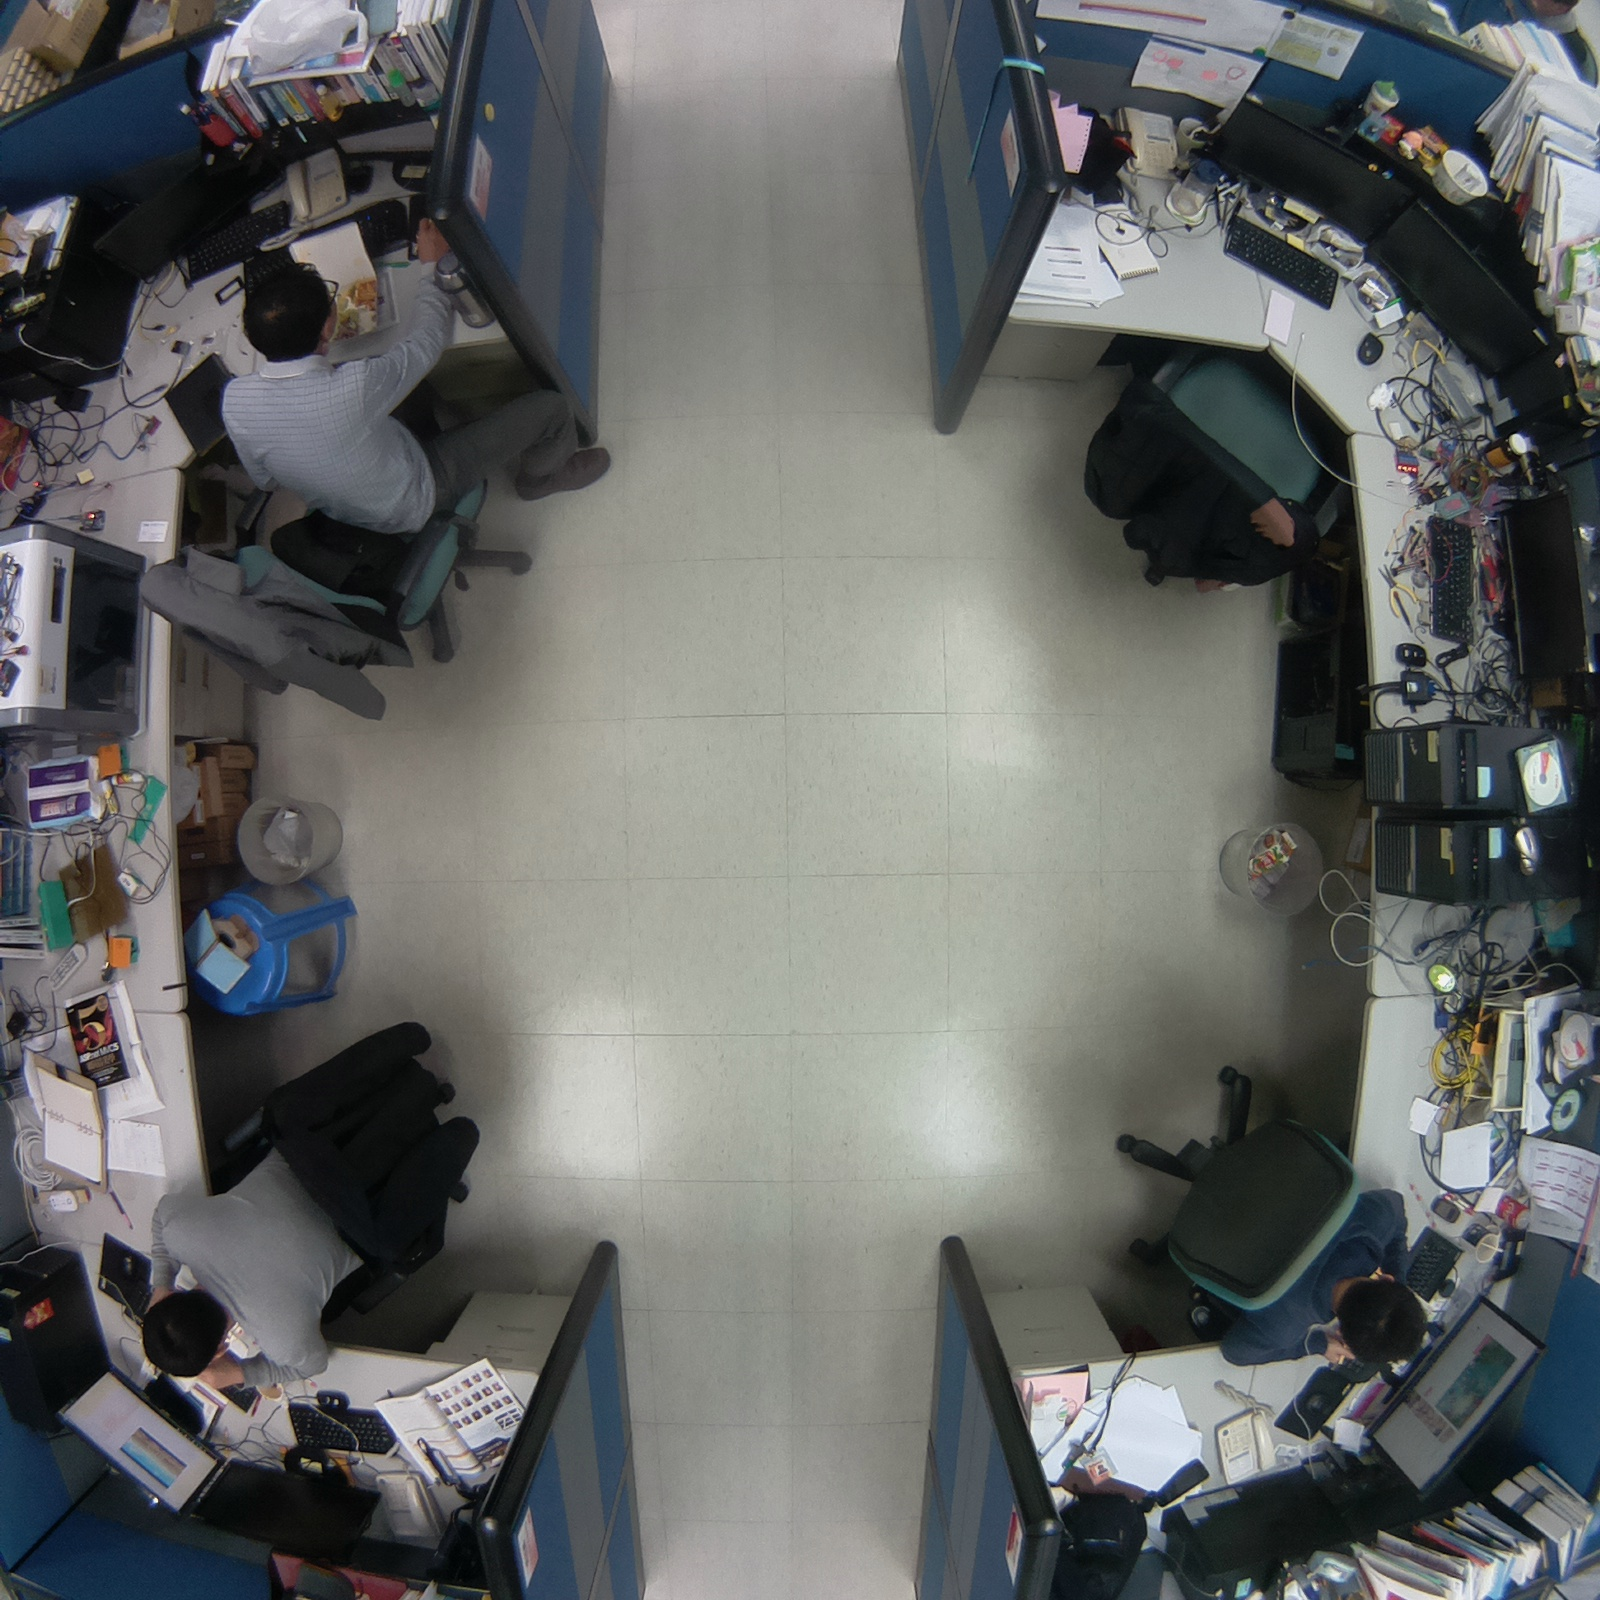chair: (1070, 329, 1353, 611)
head: (229, 253, 346, 372), (129, 1274, 234, 1382), (1334, 1268, 1432, 1372)
sitting: (124, 209, 629, 732), (117, 981, 512, 1396), (1096, 1050, 1432, 1378)
